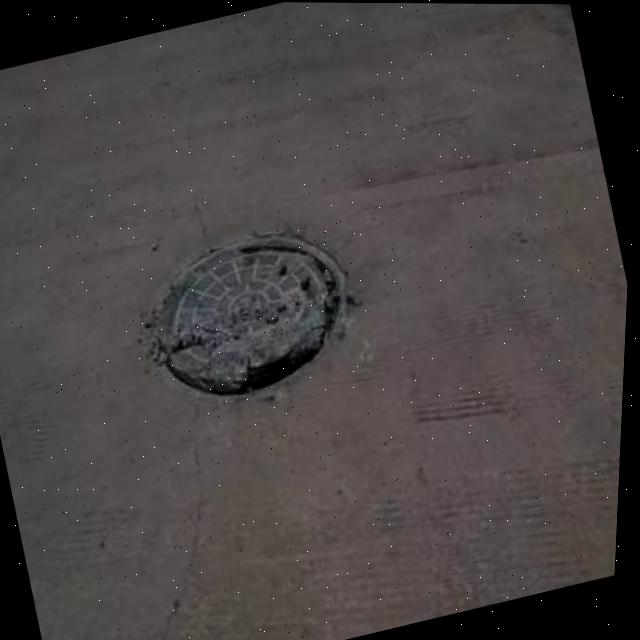manhole: (119, 205, 377, 420)
